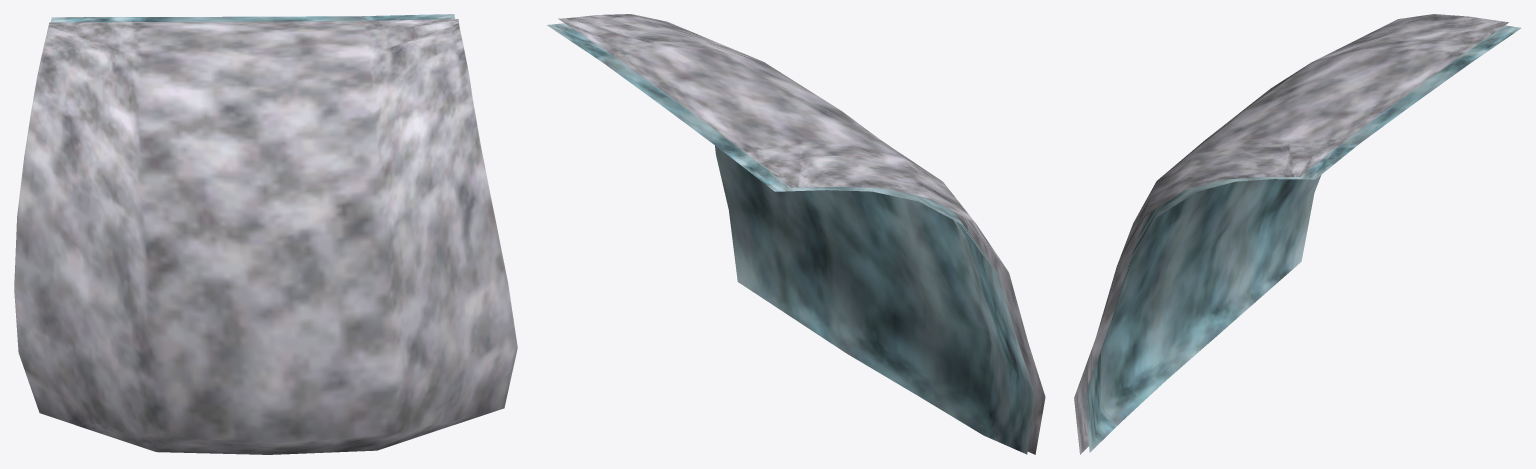
File: CB_NEWPLAYSURFACE_CB_WATERFALLS03.fbx
The picture shows the model from 3 angles, left to right: view 1: azimuth 30°, elevation 25°; view 2: azimuth 150°, elevation 25°; view 3: azimuth 270°, elevation 25°; orthographic projection. The views are drawn at different scales.
Parts seen in each view (by area): view 1: CB_NEWPLAYSURFACE_CB_WATERFALLS03; view 2: CB_NEWPLAYSURFACE_CB_WATERFALLS03; view 3: CB_NEWPLAYSURFACE_CB_WATERFALLS03.
Part boxes in pixels (left/top/right/bottom): CB_NEWPLAYSURFACE_CB_WATERFALLS03: left=14, top=14, right=517, bottom=454; CB_NEWPLAYSURFACE_CB_WATERFALLS03: left=547, top=14, right=1045, bottom=454; CB_NEWPLAYSURFACE_CB_WATERFALLS03: left=1074, top=14, right=1521, bottom=454.
Bounding box in the file's own units: 78188 × 54747 × 66247.
Materials: 2 (2 with a texture image).
